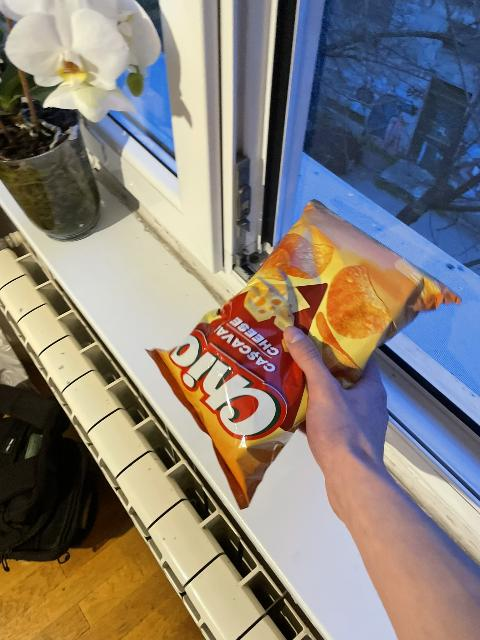Chio Cascaval 125g: (147, 199, 462, 511)
